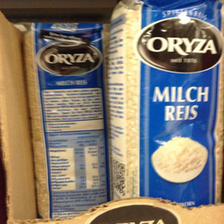rice: (106, 1, 224, 204), (20, 21, 109, 218)
